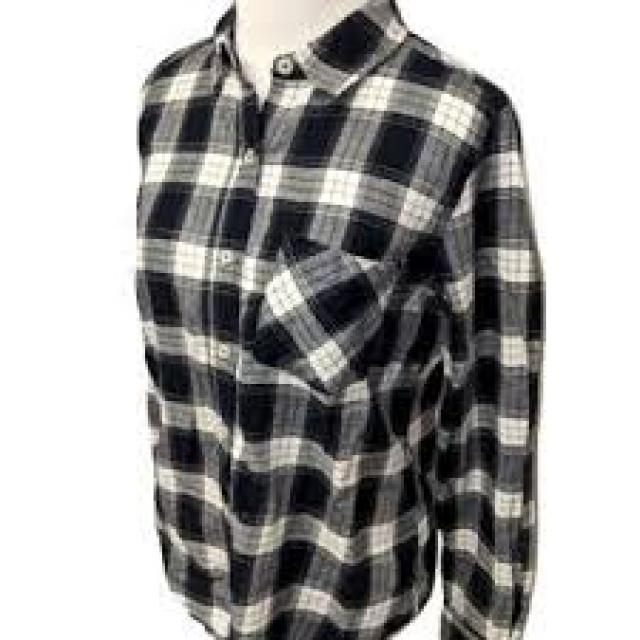plaid: (105, 21, 553, 636)
